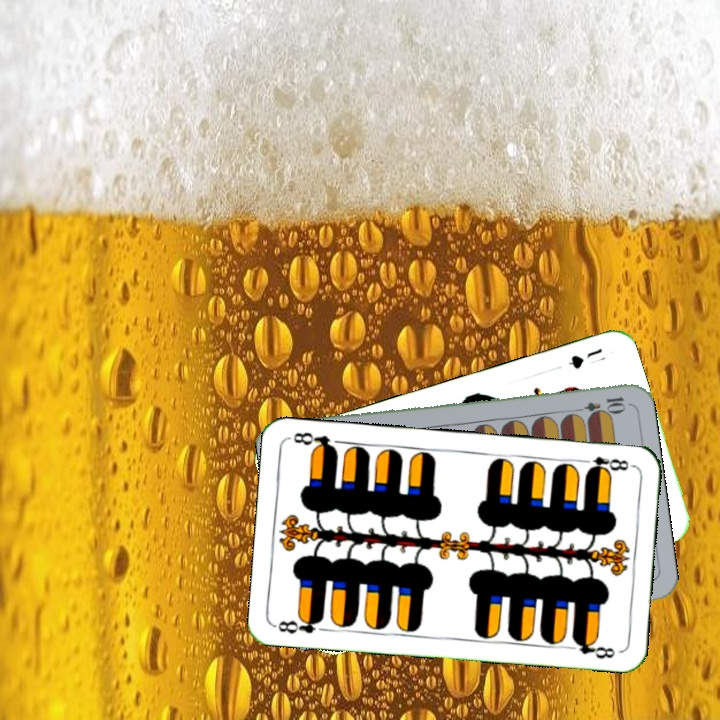E10: (569, 392, 628, 417)
E8: (576, 452, 635, 476), (272, 612, 326, 637)
GU: (565, 344, 605, 372)
